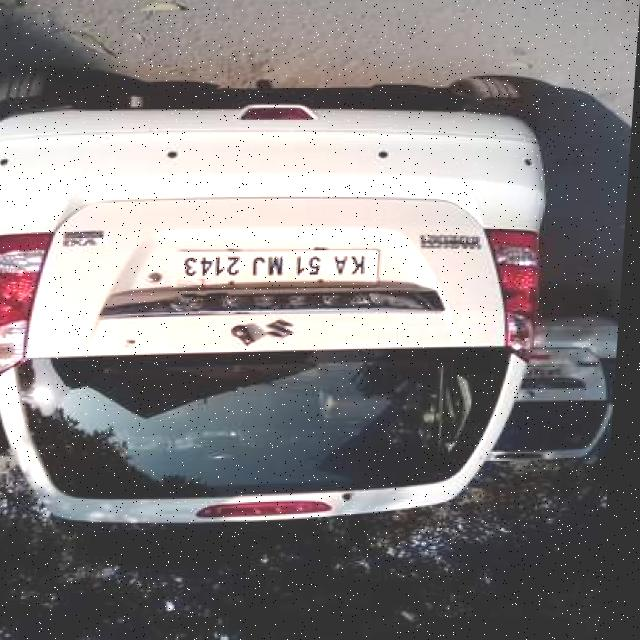plate: (173, 245, 383, 288)
